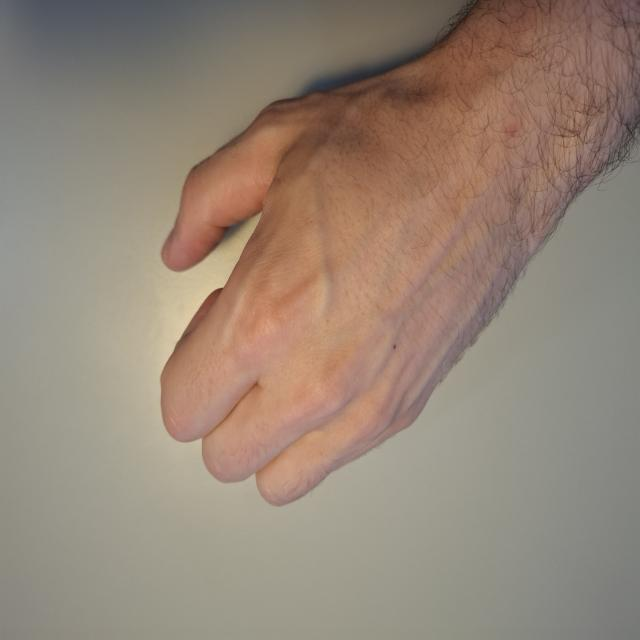glove_off: (155, 31, 581, 513)
